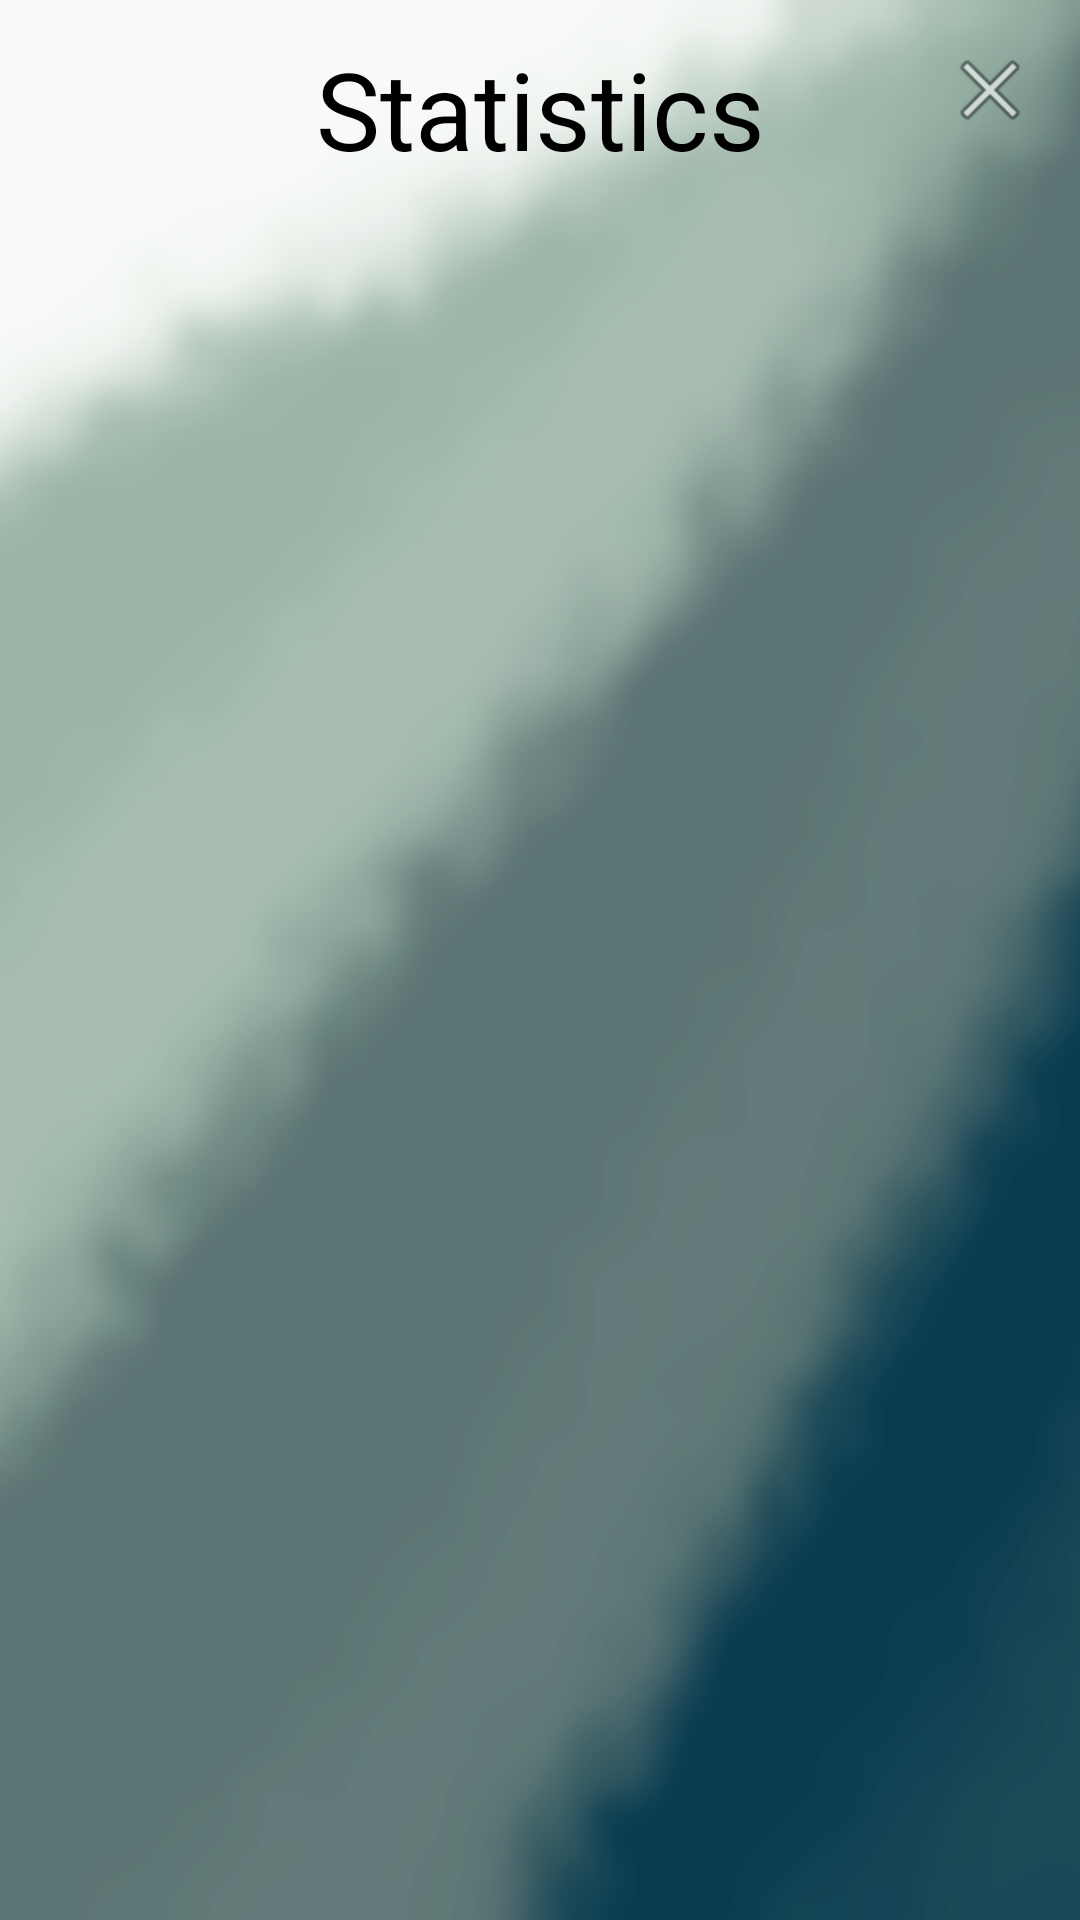

Point at icon controls on the screen. Image size 1080x1920, points as point (x, y).
close clear cancel: point (990, 90)
